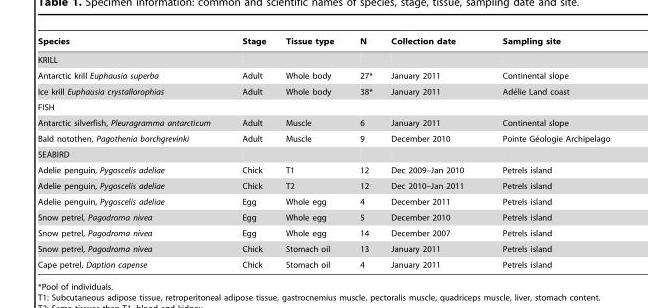table: (37, 36, 609, 268)
table column: (37, 36, 225, 268), (482, 36, 609, 268), (381, 36, 482, 268), (275, 36, 346, 268), (225, 36, 275, 268), (346, 36, 381, 268)
table column header: (37, 36, 609, 50)
table projected row header: (37, 50, 609, 67), (37, 146, 609, 162), (37, 99, 609, 114)
table row: (37, 50, 609, 67), (37, 67, 609, 83), (37, 83, 609, 99), (37, 114, 609, 130), (37, 130, 609, 146), (37, 146, 609, 162), (37, 177, 609, 193), (37, 193, 609, 209), (37, 209, 609, 225), (37, 240, 609, 256), (37, 99, 609, 114), (37, 162, 609, 177), (37, 225, 609, 240), (37, 36, 609, 50), (37, 256, 609, 268)
